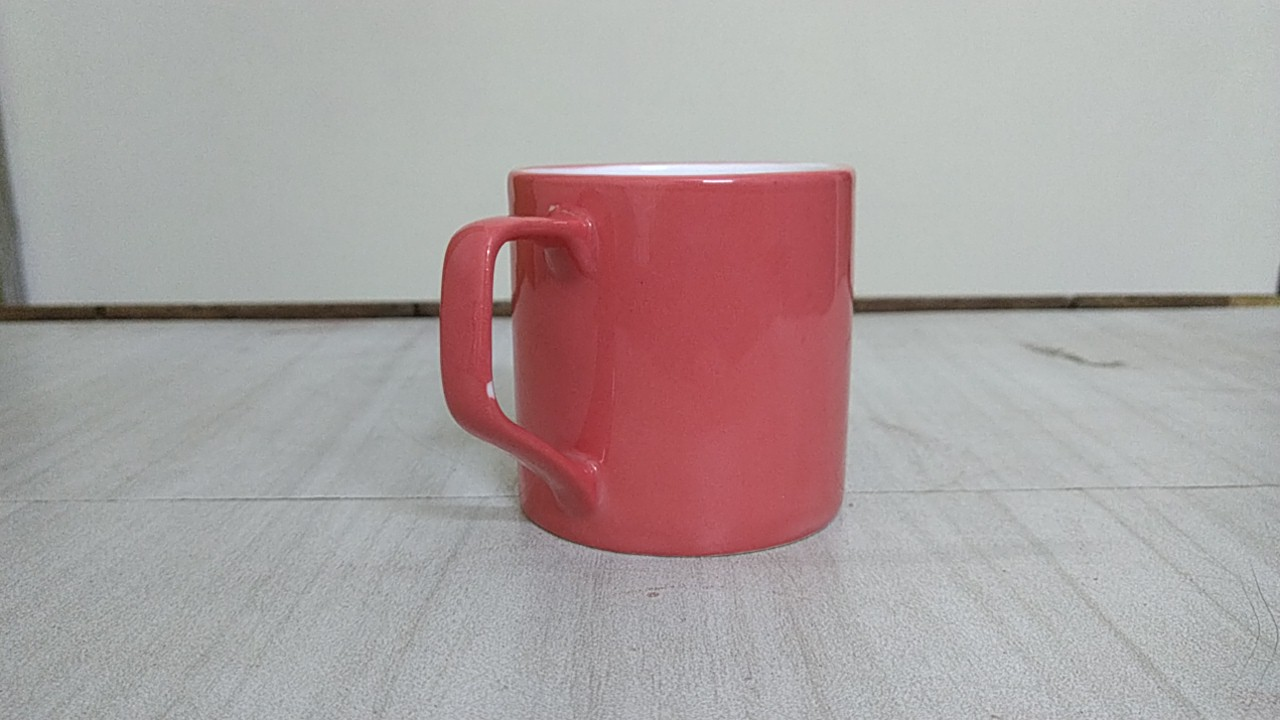cup: (423, 140, 892, 572)
